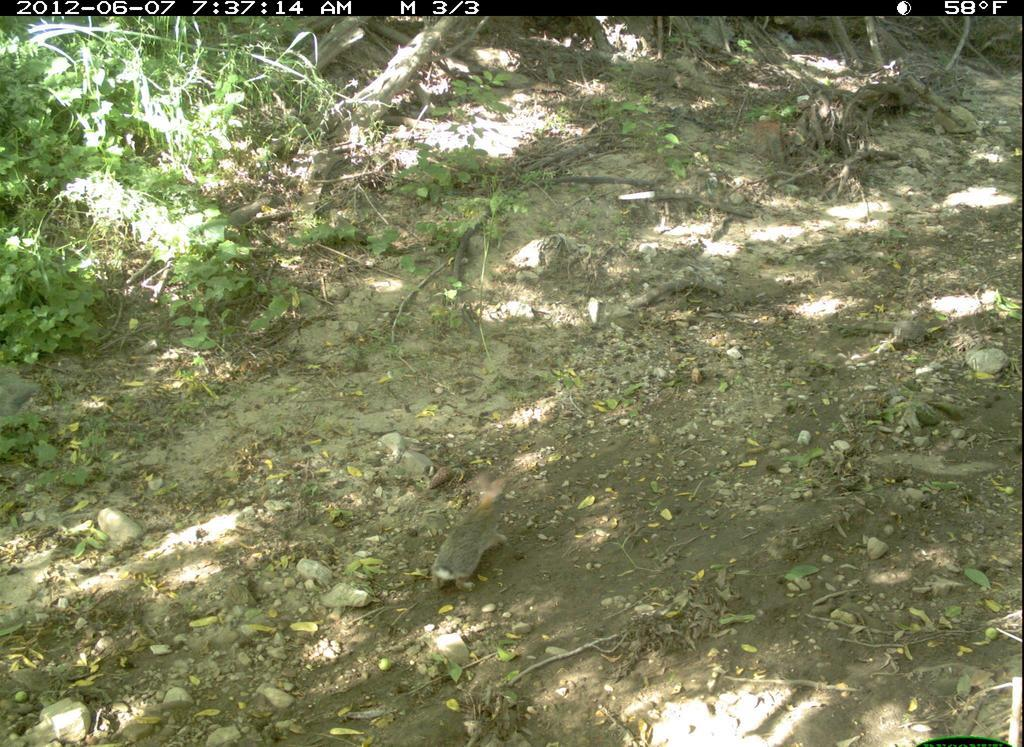rabbit: (417, 460, 526, 609)
